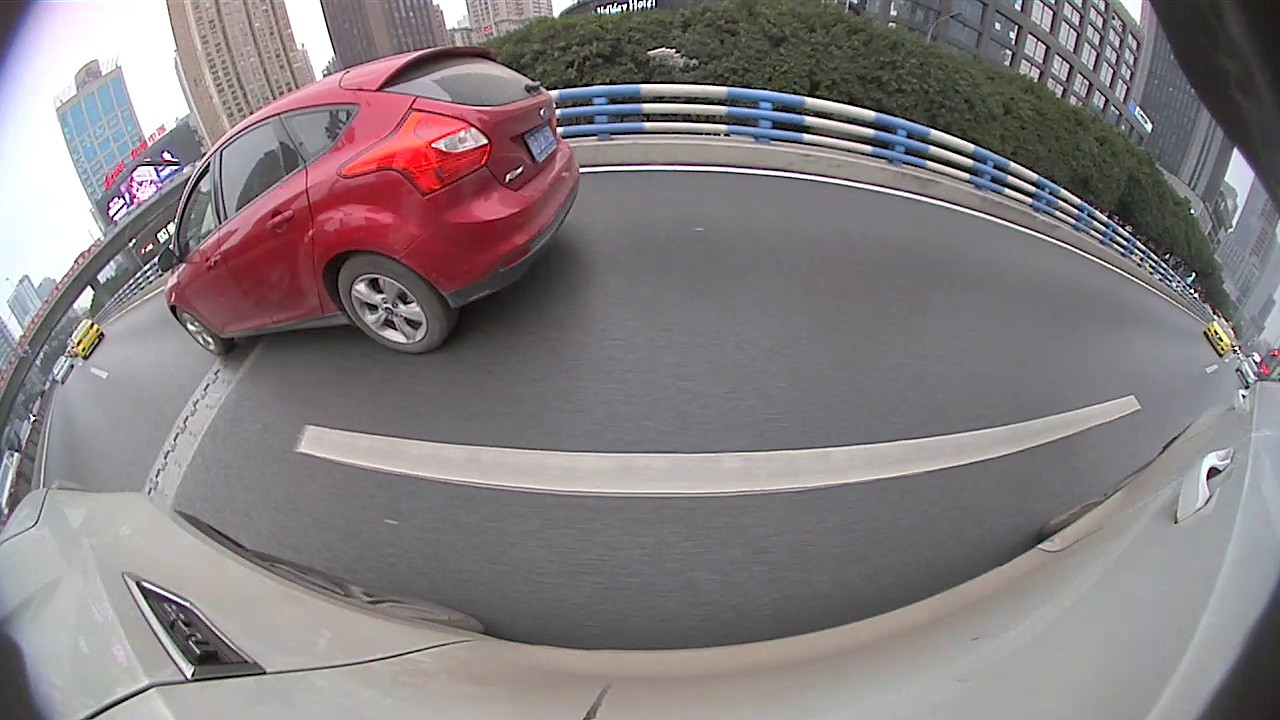car: (164, 48, 583, 356), (69, 320, 105, 361), (1204, 315, 1237, 356)
front: (173, 306, 231, 353)
rear: (336, 258, 456, 351)
